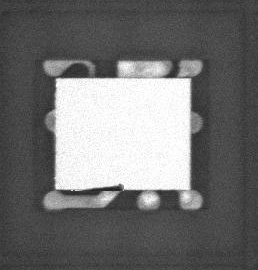DIE_BROKEN: (83, 180, 126, 193)
